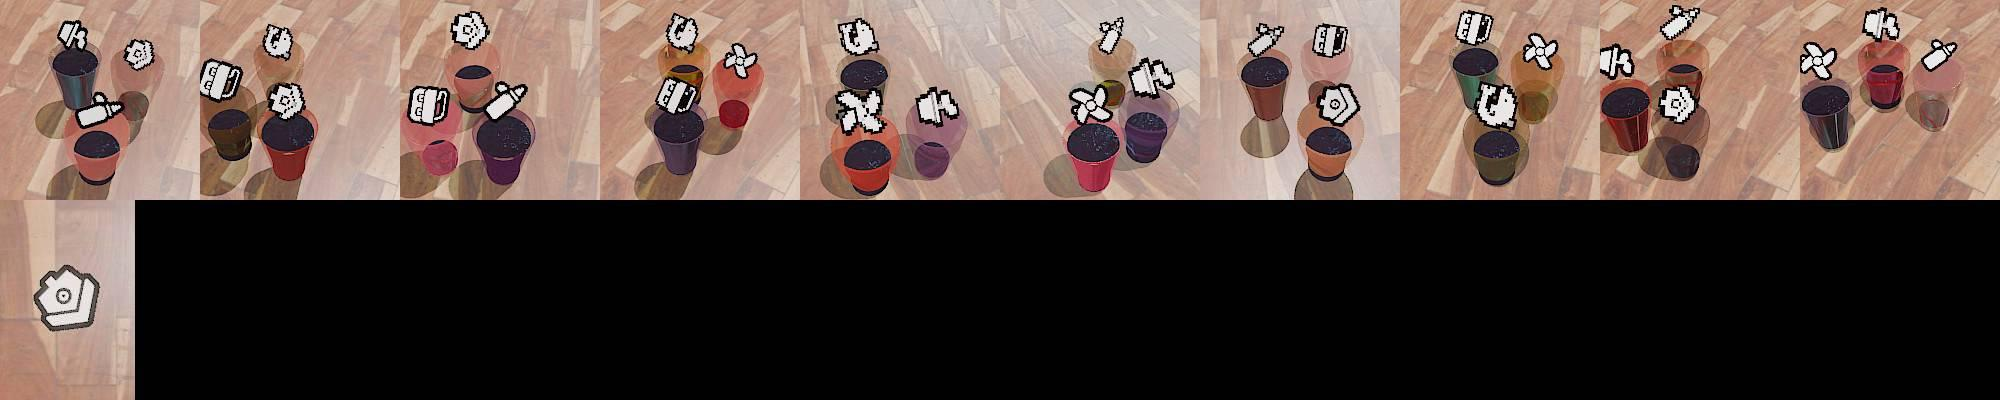icon: (32, 264, 102, 333), (832, 86, 886, 134), (1126, 56, 1177, 100), (1472, 80, 1518, 128), (1313, 82, 1361, 127), (1069, 83, 1117, 127), (653, 73, 701, 115), (913, 86, 961, 127), (74, 90, 125, 128), (198, 58, 243, 101), (483, 79, 529, 121), (406, 84, 452, 125), (266, 80, 308, 122), (837, 16, 878, 57), (1658, 84, 1700, 124), (1659, 3, 1703, 40), (450, 10, 490, 50), (720, 41, 760, 79), (1800, 42, 1838, 81), (665, 13, 701, 54), (1522, 32, 1560, 70), (1247, 21, 1285, 58), (1457, 10, 1495, 47), (1862, 7, 1901, 43), (1311, 22, 1349, 58), (1599, 44, 1635, 80), (1920, 39, 1957, 72), (262, 23, 294, 61), (1095, 16, 1125, 54), (122, 38, 155, 72), (57, 19, 90, 51)
